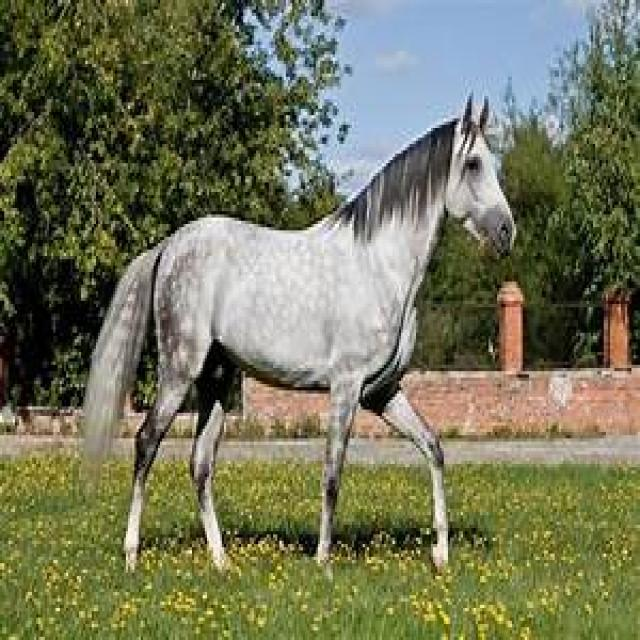animal: (79, 90, 516, 579)
